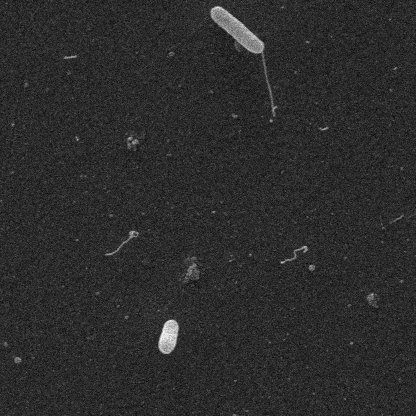cell2surface: (253, 47, 279, 123)
regular: (208, 4, 264, 56)
spheroplast: (157, 318, 181, 356), (338, 0, 364, 2)
